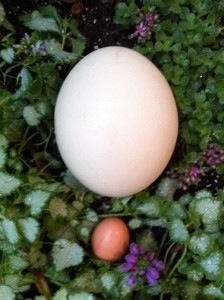Egg: (49, 37, 185, 208)
